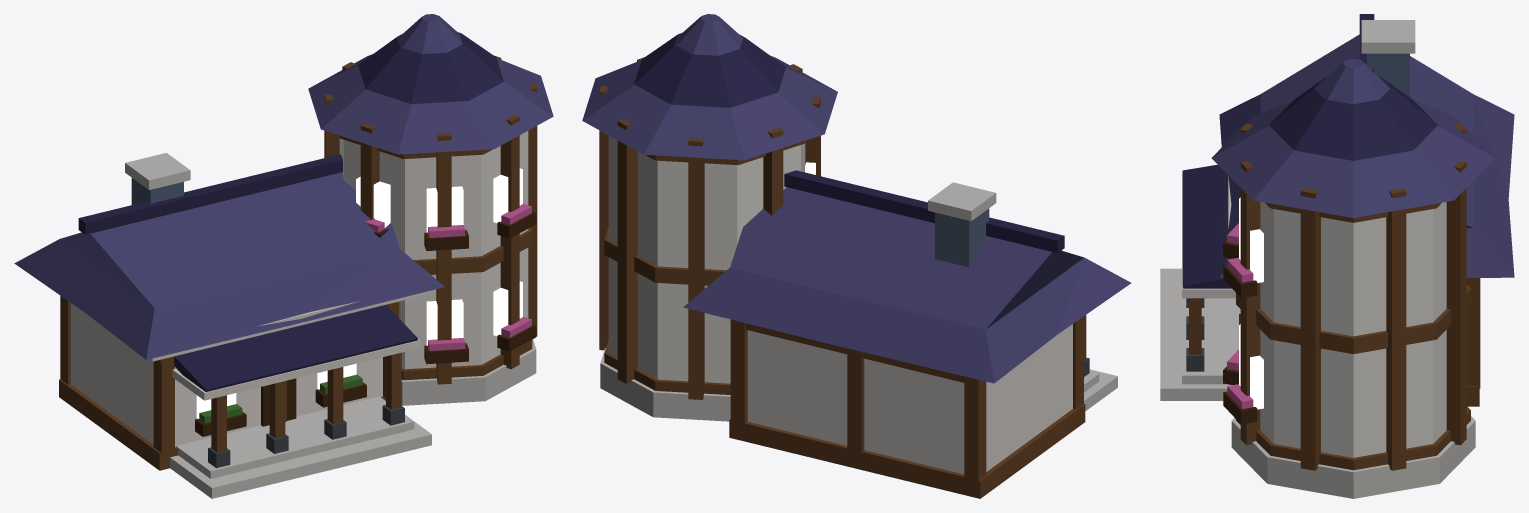
File: alices-house.glb
The picture shows the model from 3 angles, left to right: view 1: azimuth 30°, elevation 25°; view 2: azimuth 150°, elevation 25°; view 3: azimuth 270°, elevation 25°; orthographic projection. The views are drawn at different scales.
Visible parts, largest first — view 1: AlicesHouse_Opaque, AlicesHouse_Emissive; view 2: AlicesHouse_Opaque; view 3: AlicesHouse_Opaque, AlicesHouse_Emissive.
Boxes of the visible parts, x1,y1,x2,y2 form: AlicesHouse_Opaque: [14, 14, 553, 498]; AlicesHouse_Emissive: [196, 168, 522, 418]; AlicesHouse_Opaque: [582, 14, 1130, 498]; AlicesHouse_Opaque: [1160, 14, 1514, 498]; AlicesHouse_Emissive: [1239, 197, 1263, 409].
Size of the model in its own units: 21.9 by 15.8 by 13.2.
